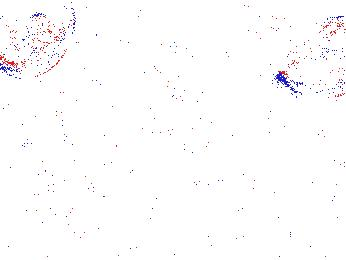moon jellyfish: (277, 16, 346, 101), (1, 1, 75, 79), (140, 40, 216, 105), (166, 10, 256, 44), (1, 105, 56, 149)
